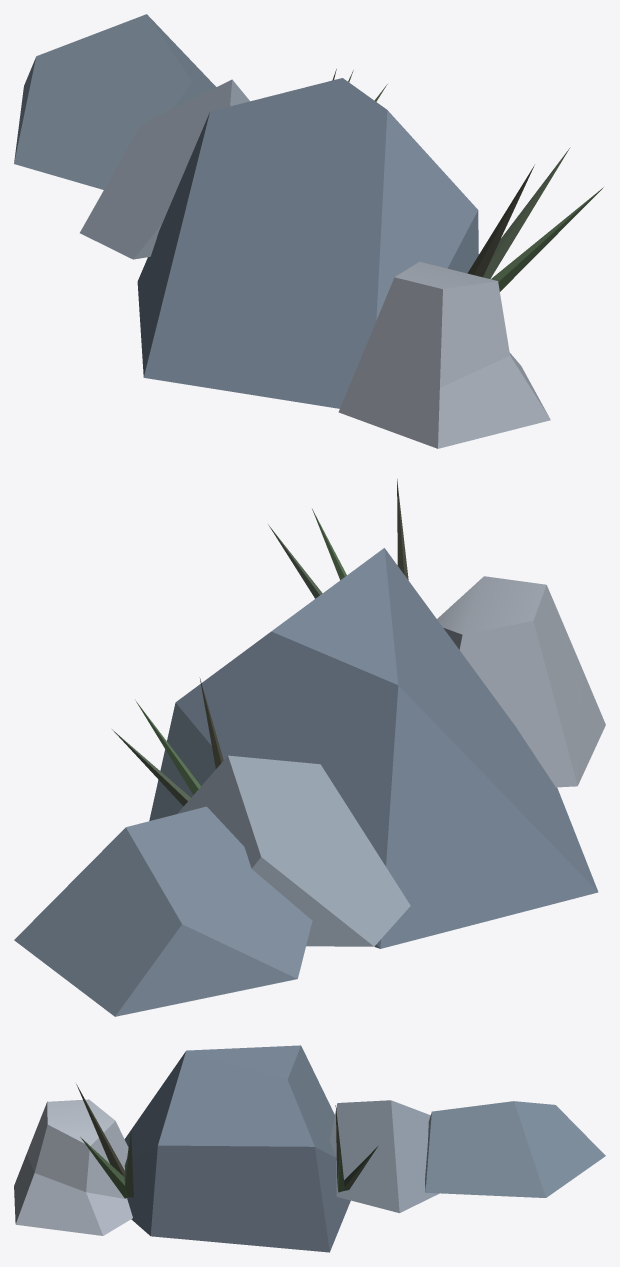
The model's file is roca2.glb.
3 views of the same model, one above another, from view 1: azimuth 30°, elevation 25°; view 2: azimuth 150°, elevation 25°; view 3: azimuth 270°, elevation 25° (orthographic). The views are drawn at different scales.
Visible parts, largest first — view 1: Rock-pack-ver2_Texture-base_0; view 2: Rock-pack-ver2_Texture-base_0; view 3: Rock-pack-ver2_Texture-base_0.
Boxes of the visible parts, box(x1,y1,x2,y2) form: Rock-pack-ver2_Texture-base_0: box(14, 14, 603, 448); Rock-pack-ver2_Texture-base_0: box(14, 479, 605, 1016); Rock-pack-ver2_Texture-base_0: box(14, 1045, 605, 1252).
Size of the model in its own units: 1.01 by 0.6275 by 2.06.
1 material, 1 textured.
